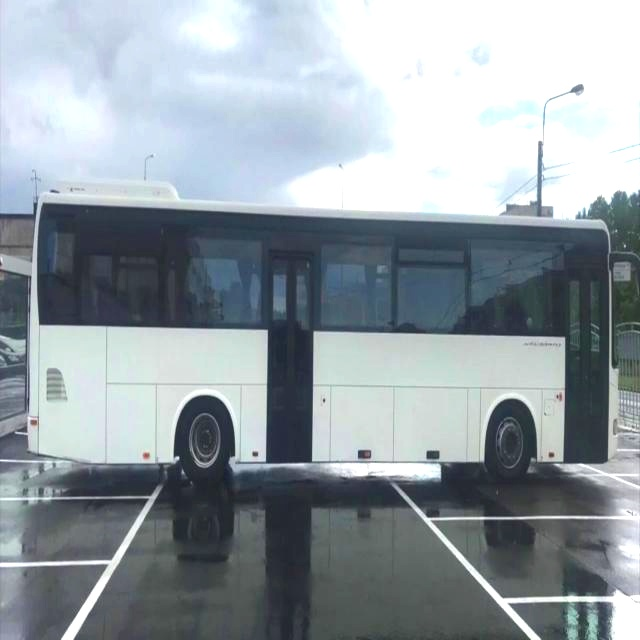bus: (11, 163, 633, 493)
